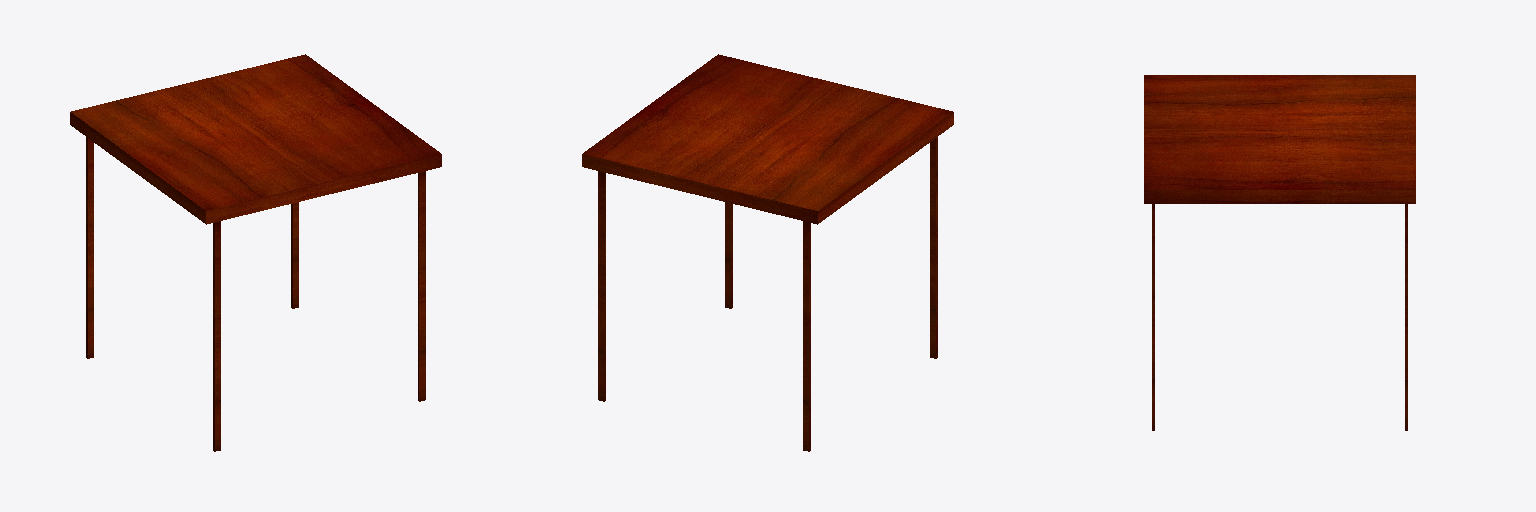
3 renders of one model, left to right at view 1: azimuth 30°, elevation 25°; view 2: azimuth 150°, elevation 25°; view 3: azimuth 270°, elevation 25°, orthographic.
Parts seen in each view (by area): view 1: Table_Cube.001; view 2: Table_Cube.001; view 3: Table_Cube.001.
Part boxes in pixels (x1,y1,x2,y2): Table_Cube.001: (70, 54, 441, 451); Table_Cube.001: (582, 54, 953, 451); Table_Cube.001: (1144, 75, 1415, 430).
Size of the model in its own units: 1 by 1 by 1.
Materials: 1 (1 with a texture image).